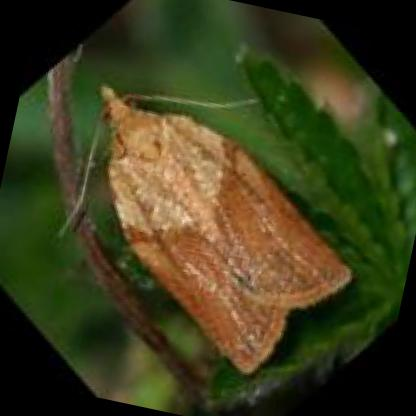plutella: (100, 86, 353, 380)
